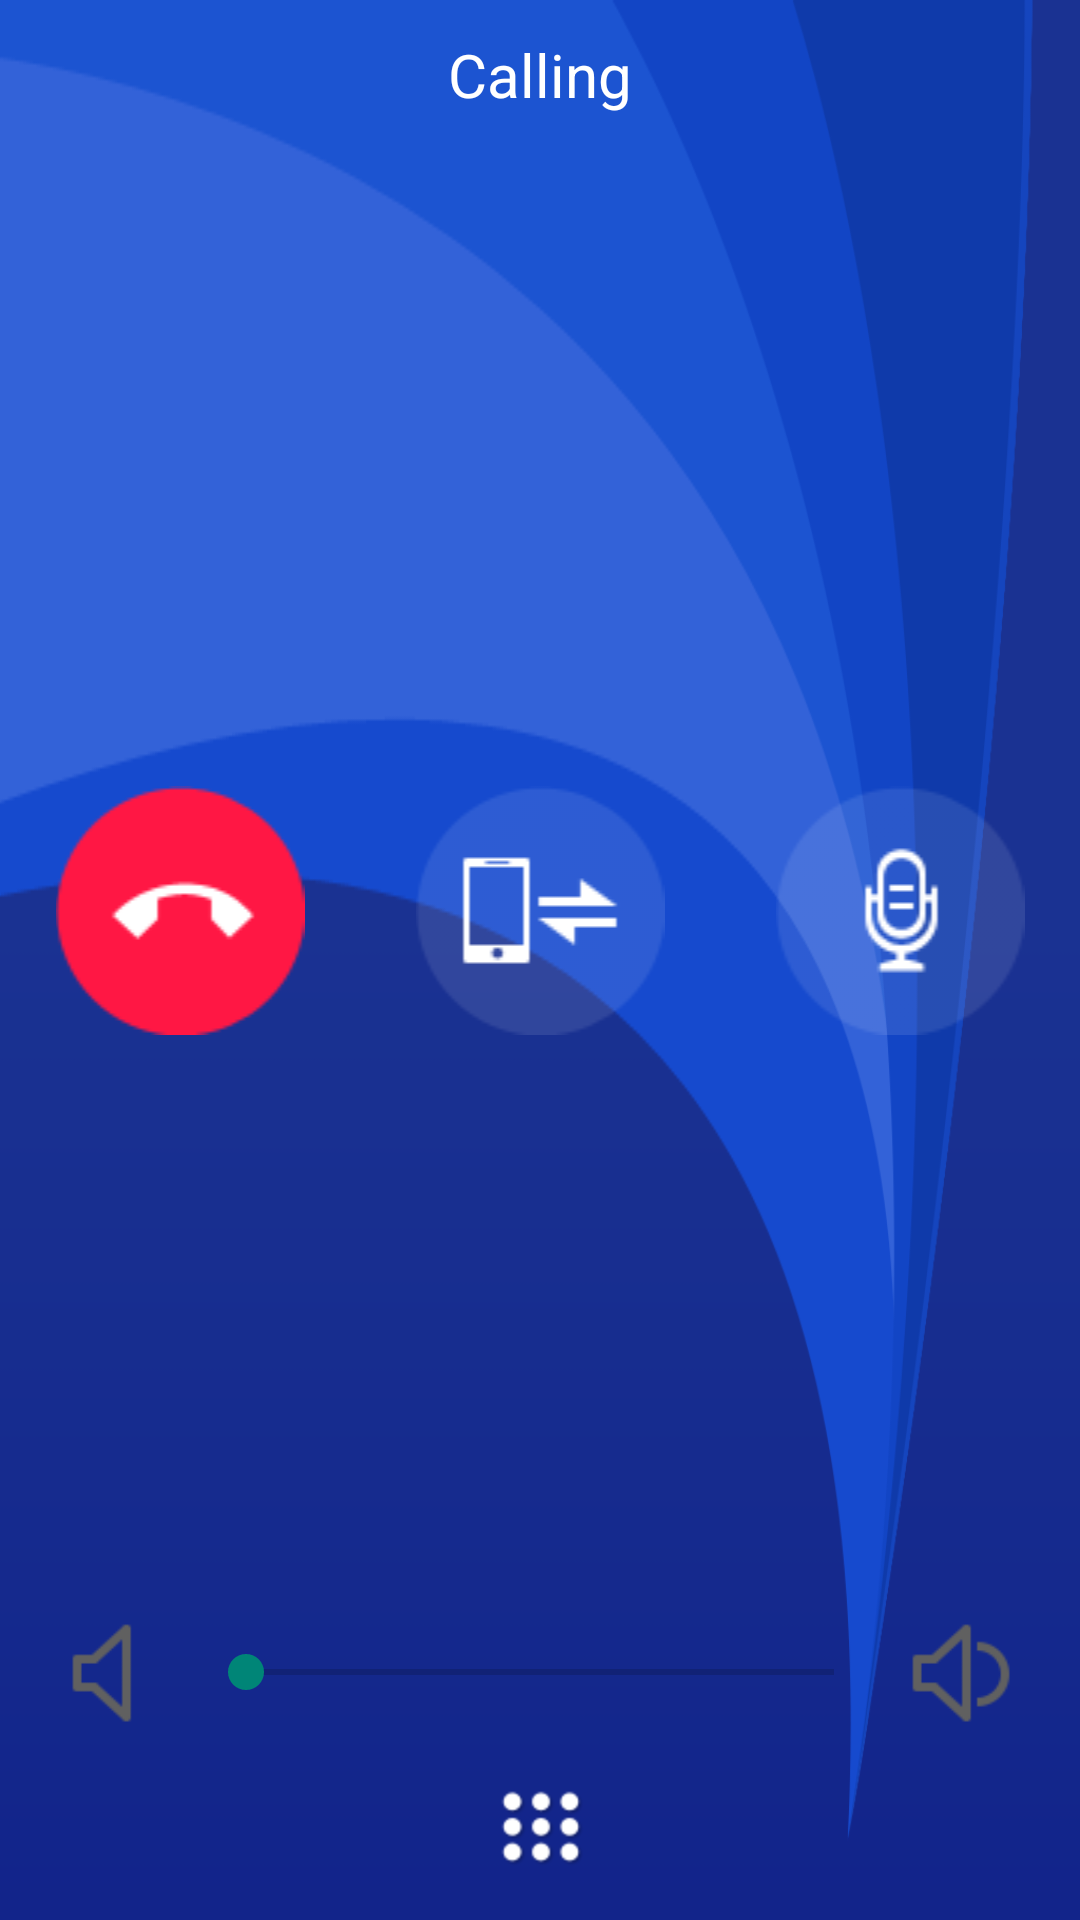

Point at icon controls on the screen. Image size 1080x1920, points as [x,y].
incall vol minus: [101,1673]
incall vol plus: [961,1673]
jianpan: [541,1826]
jianpan bujingyin: [900,910]
jianpan guaduan: [180,910]
jianpan qieshengdao: [540,910]
